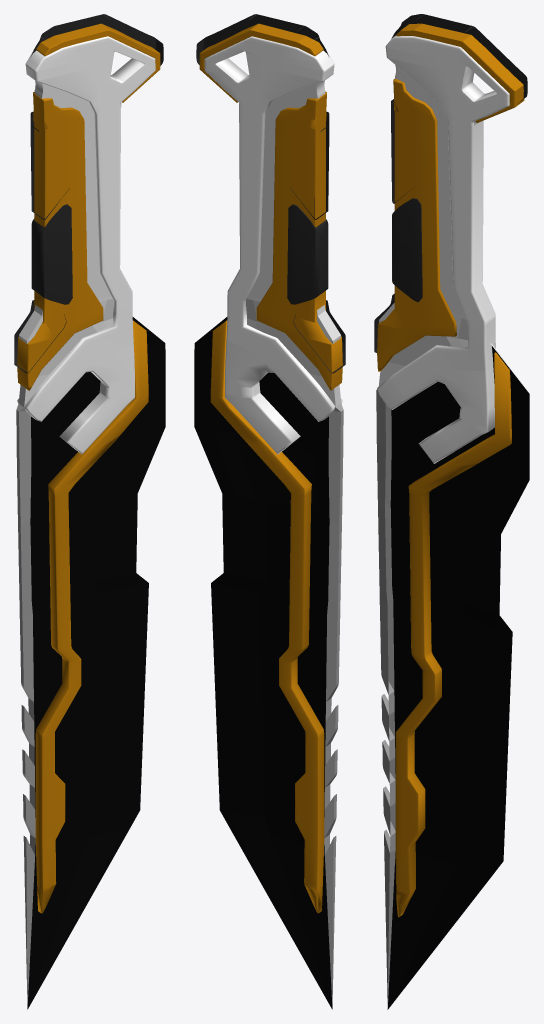
The picture shows the model from 3 angles, left to right: view 1: azimuth 30°, elevation 25°; view 2: azimuth 150°, elevation 25°; view 3: azimuth 330°, elevation 25°; orthographic projection. The views are drawn at different scales.
Parts seen in each view (by area): view 1: knife_0; view 2: knife_0; view 3: knife_0.
Part boxes in pixels (x1,y1,x2,y2): knife_0: (14,14,165,1009); knife_0: (194,14,345,1009); knife_0: (374,14,529,1009).
Size of the model in its own units: 9.5 by 59.77 by 1.32.
